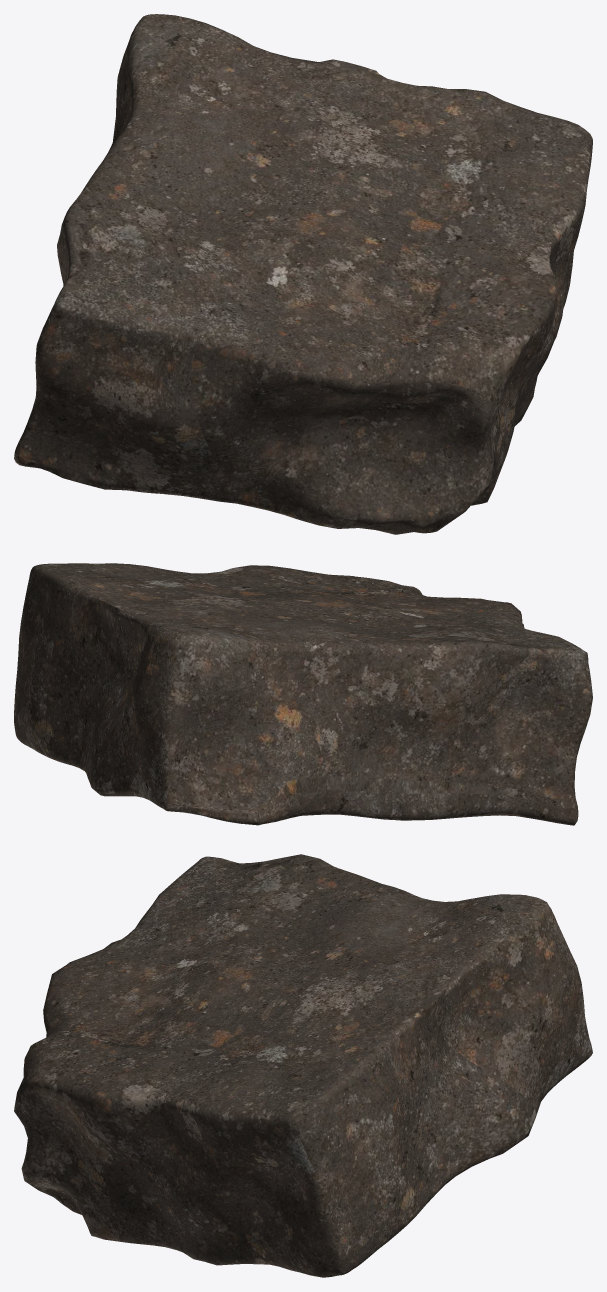
The model's file is rock3.glb.
The picture shows the model from 3 angles, top to bottom: view 1: azimuth 30°, elevation 25°; view 2: azimuth 150°, elevation 25°; view 3: azimuth 270°, elevation 25°; orthographic projection. The views are drawn at different scales.
Parts seen in each view (by area): view 1: Volume Mesher.2_remesh; view 2: Volume Mesher.2_remesh; view 3: Volume Mesher.2_remesh.
Part boxes in pixels (x1,y1,x2,y2): Volume Mesher.2_remesh: (14,14,592,534); Volume Mesher.2_remesh: (14,563,592,825); Volume Mesher.2_remesh: (14,854,592,1277).
Size of the model in its own units: 85.63 by 45.3 by 78.66.
1 material, 1 textured.
